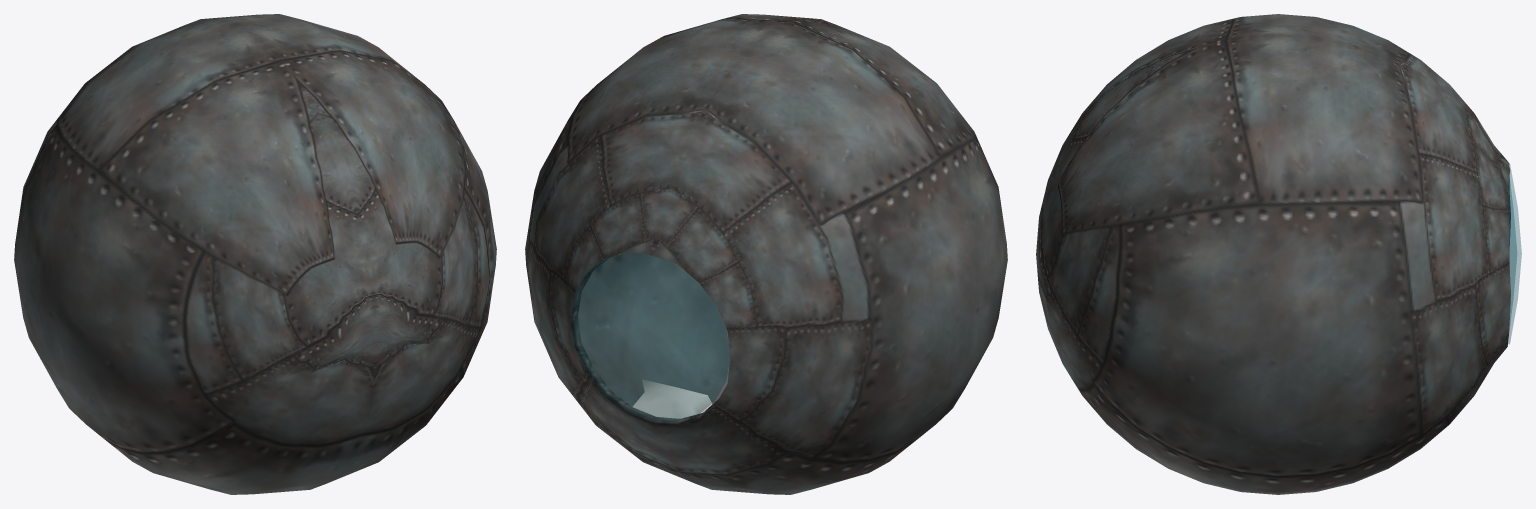
Rendered from Bathysphere_update.fbx.
3 views of the same model, side by side, from view 1: azimuth 30°, elevation 25°; view 2: azimuth 150°, elevation 25°; view 3: azimuth 270°, elevation 25° (orthographic).
Parts seen in each view (by area): view 1: polySurface6; view 2: polySurface6, pCylinder3; view 3: polySurface6, pCylinder3.
Boxes of the visible parts, x1=… form: polySurface6: x1=14, y1=14, x2=496, y2=494; polySurface6: x1=525, y1=14, x2=1007, y2=494; pCylinder3: x1=572, y1=252, x2=729, y2=421; polySurface6: x1=1036, y1=14, x2=1510, y2=494; pCylinder3: x1=1508, y1=163, x2=1521, y2=343.
Size of the model in its own units: 41.2 by 41.2 by 41.31.
Materials: 4 (3 with a texture image).
